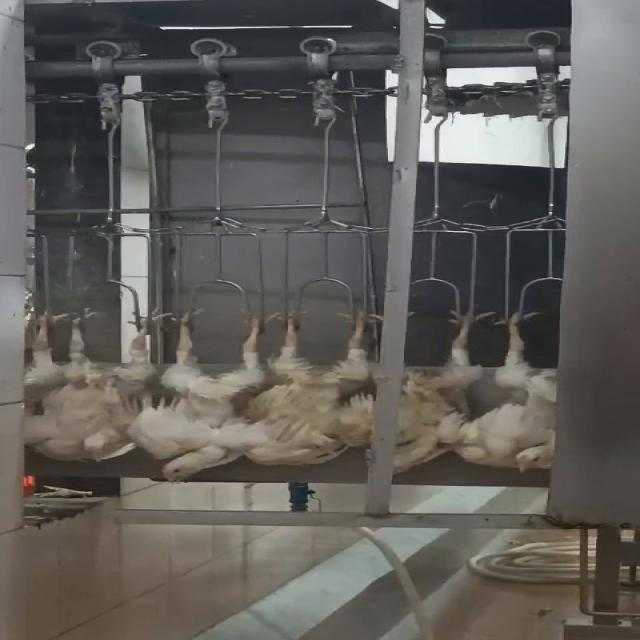chicken: (139, 307, 288, 485), (11, 306, 173, 467), (359, 312, 507, 476), (268, 308, 376, 470), (487, 307, 571, 475)
